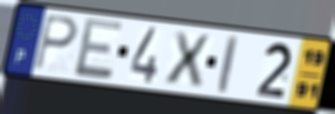2: (256, 41, 293, 100)
4: (129, 26, 159, 85)
E: (73, 16, 126, 81)
I: (216, 33, 240, 96)
P: (33, 13, 80, 72)
X: (163, 29, 212, 88)
